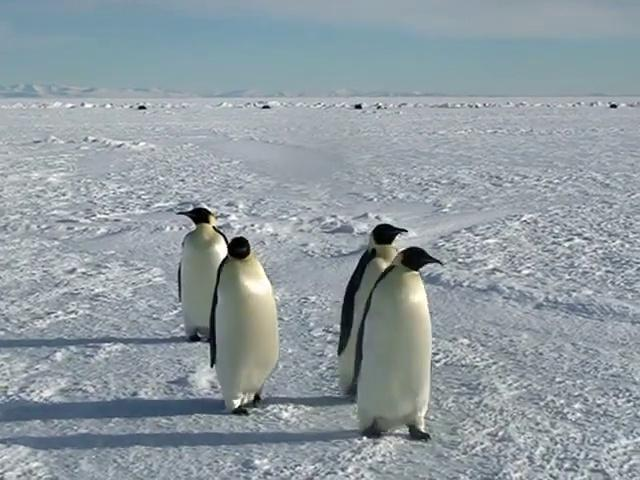animal: (356, 247, 442, 442)
